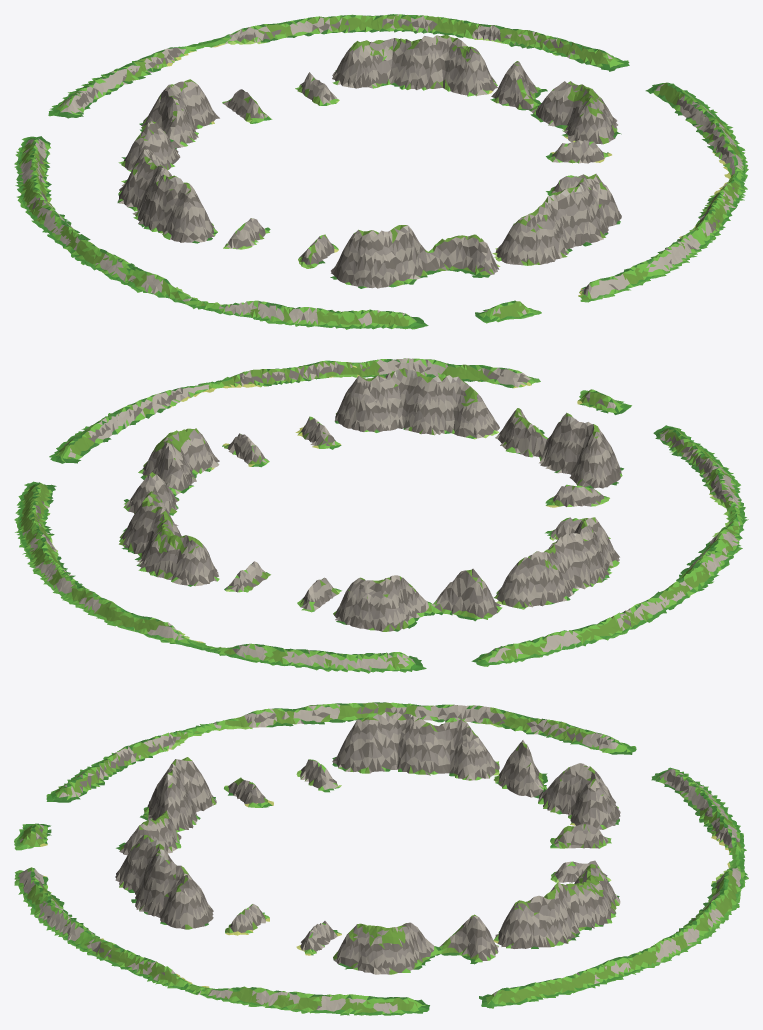
Rendered from Inv-1-Relief.fbx.
3 views of the same model, one above another, from view 1: azimuth 30°, elevation 25°; view 2: azimuth 150°, elevation 25°; view 3: azimuth 270°, elevation 25° (orthographic).
Parts seen in each view (by area): view 1: Inv-1-Relief-c20, Inv-1-Relief-c10, Inv-1-Relief-c22, Inv-1-Relief-c02, Inv-1-Relief-c01, Inv-1-Relief-c31, Inv-1-Relief-c32, Inv-1-Relief-c23, Inv-1-Relief-c12, Inv-1-Relief-c13, Inv-1-Relief-c00, Inv-1-Relief-c11 (+4 smaller); view 2: Inv-1-Relief-c02, Inv-1-Relief-c20, Inv-1-Relief-c13, Inv-1-Relief-c23, Inv-1-Relief-c32, Inv-1-Relief-c21, Inv-1-Relief-c11, Inv-1-Relief-c10, Inv-1-Relief-c31, Inv-1-Relief-c01, Inv-1-Relief-c12, Inv-1-Relief-c22 (+4 smaller); view 3: Inv-1-Relief-c02, Inv-1-Relief-c32, Inv-1-Relief-c20, Inv-1-Relief-c31, Inv-1-Relief-c01, Inv-1-Relief-c13, Inv-1-Relief-c12, Inv-1-Relief-c10, Inv-1-Relief-c23, Inv-1-Relief-c22, Inv-1-Relief-c11, Inv-1-Relief-c21 (+4 smaller).
Boxes of the visible parts, left/top/right/bottom form: Inv-1-Relief-c20: left=492, top=178, right=707, bottom=302; Inv-1-Relief-c10: left=341, top=225, right=541, bottom=329; Inv-1-Relief-c22: left=305, top=34, right=522, bottom=110; Inv-1-Relief-c02: left=14, top=141, right=177, bottom=250; Inv-1-Relief-c01: left=68, top=176, right=248, bottom=312; Inv-1-Relief-c31: left=562, top=88, right=748, bottom=189; Inv-1-Relief-c32: left=489, top=30, right=695, bottom=130; Inv-1-Relief-c23: left=200, top=14, right=417, bottom=95; Inv-1-Relief-c12: left=125, top=86, right=272, bottom=169; Inv-1-Relief-c13: left=54, top=42, right=245, bottom=131; Inv-1-Relief-c00: left=216, top=300, right=359, bottom=329; Inv-1-Relief-c11: left=241, top=218, right=366, bottom=281; Inv-1-Relief-c02: left=473, top=520, right=691, bottom=655; Inv-1-Relief-c20: left=344, top=358, right=540, bottom=439; Inv-1-Relief-c13: left=202, top=576, right=418, bottom=673; Inv-1-Relief-c23: left=53, top=529, right=257, bottom=650; Inv-1-Relief-c32: left=14, top=432, right=198, bottom=538; Inv-1-Relief-c21: left=236, top=375, right=436, bottom=467; Inv-1-Relief-c11: left=508, top=427, right=619, bottom=540; Inv-1-Relief-c10: left=495, top=389, right=705, bottom=478; Inv-1-Relief-c31: left=67, top=378, right=241, bottom=473; Inv-1-Relief-c01: left=574, top=501, right=748, bottom=594; Inv-1-Relief-c12: left=316, top=568, right=505, bottom=624; Inv-1-Relief-c22: left=119, top=484, right=270, bottom=584; Inv-1-Relief-c02: left=381, top=702, right=583, bottom=775; Inv-1-Relief-c32: left=381, top=914, right=583, bottom=1015; Inv-1-Relief-c20: left=14, top=835, right=181, bottom=945; Inv-1-Relief-c31: left=179, top=923, right=382, bottom=1015; Inv-1-Relief-c01: left=179, top=702, right=382, bottom=774; Inv-1-Relief-c13: left=582, top=764, right=746, bottom=859; Inv-1-Relief-c12: left=449, top=740, right=583, bottom=848; Inv-1-Relief-c10: left=14, top=759, right=181, bottom=855; Inv-1-Relief-c23: left=582, top=859, right=748, bottom=944; Inv-1-Relief-c22: left=493, top=861, right=584, bottom=945; Inv-1-Relief-c11: left=179, top=757, right=341, bottom=846; Inv-1-Relief-c21: left=179, top=865, right=341, bottom=945.
Size of the model in its own units: 182 by 13.36 by 182.
